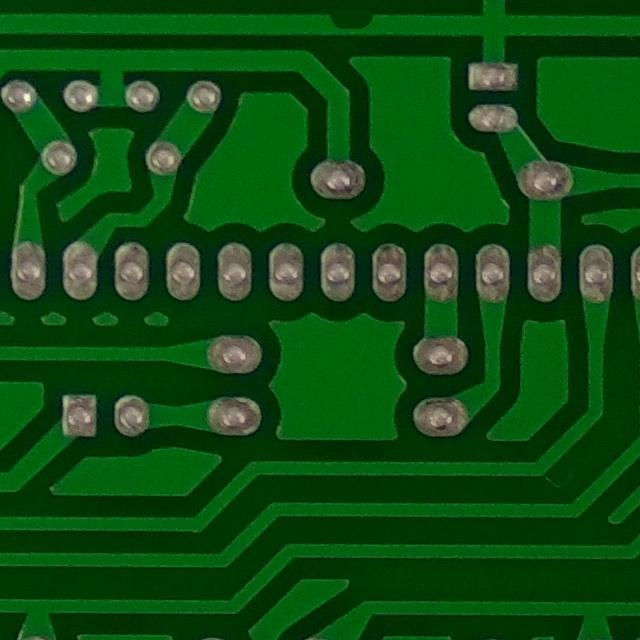mouse_bite: (317, 0, 389, 46)
